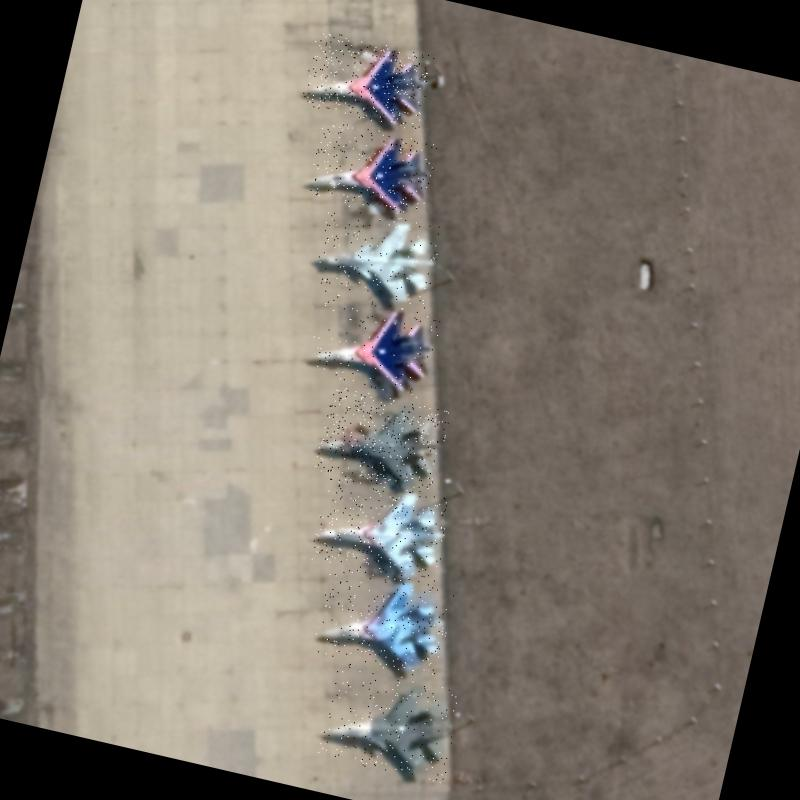A1: (310, 562, 456, 680), (309, 471, 454, 587), (314, 384, 450, 496), (305, 290, 442, 399), (300, 29, 435, 131), (306, 117, 439, 220)
A19: (316, 660, 464, 784), (311, 201, 443, 308)
